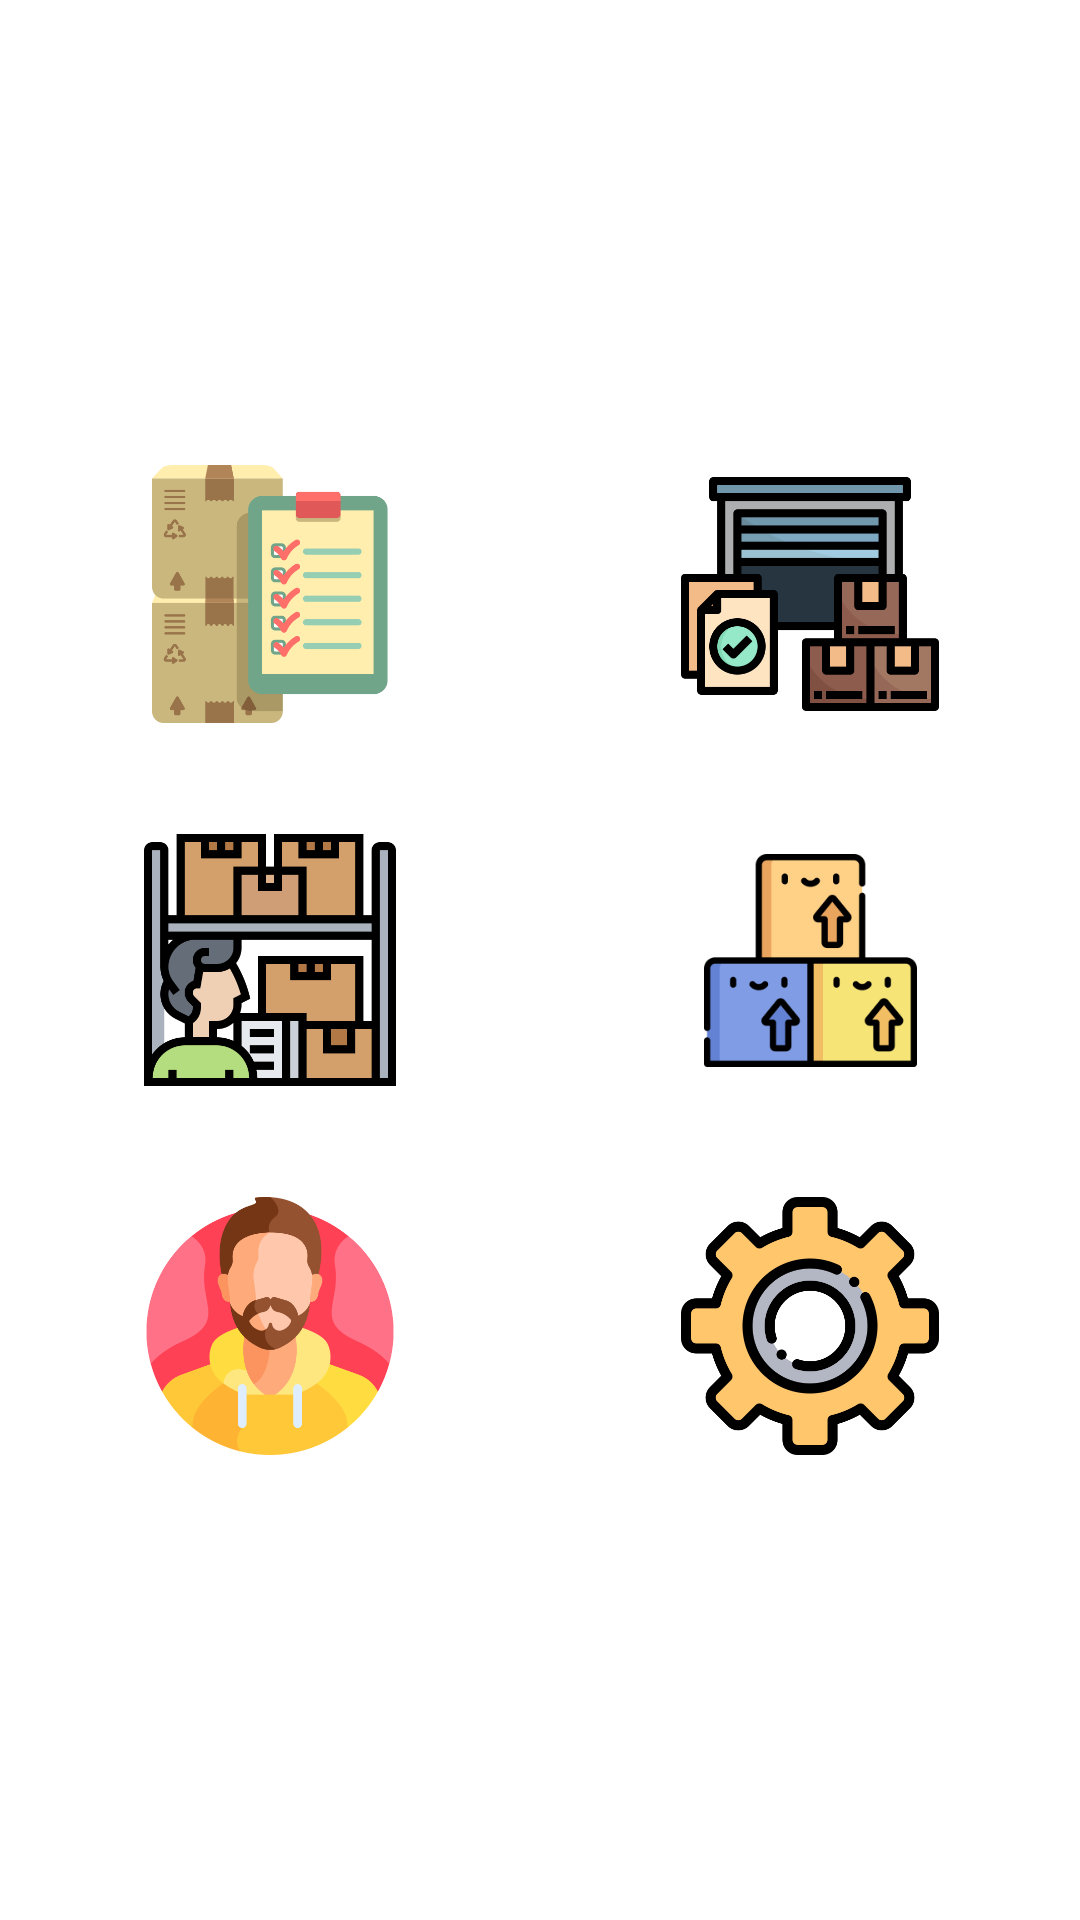

Where icons sit on this 1080px x 1920px app screen, as (x1, y1, x2, y2):
Un boton imagen de ajustes: (681, 1197, 939, 1455)
Un boton imagen de Dependencia: (681, 477, 939, 711)
Un boton imagen de inventario: (152, 465, 388, 723)
Un boton imagen de productos: (704, 854, 917, 1067)
Un boton imagen de Secciones: (144, 834, 396, 1086)
Un boton imagen sobre mi: (146, 1197, 394, 1455)
